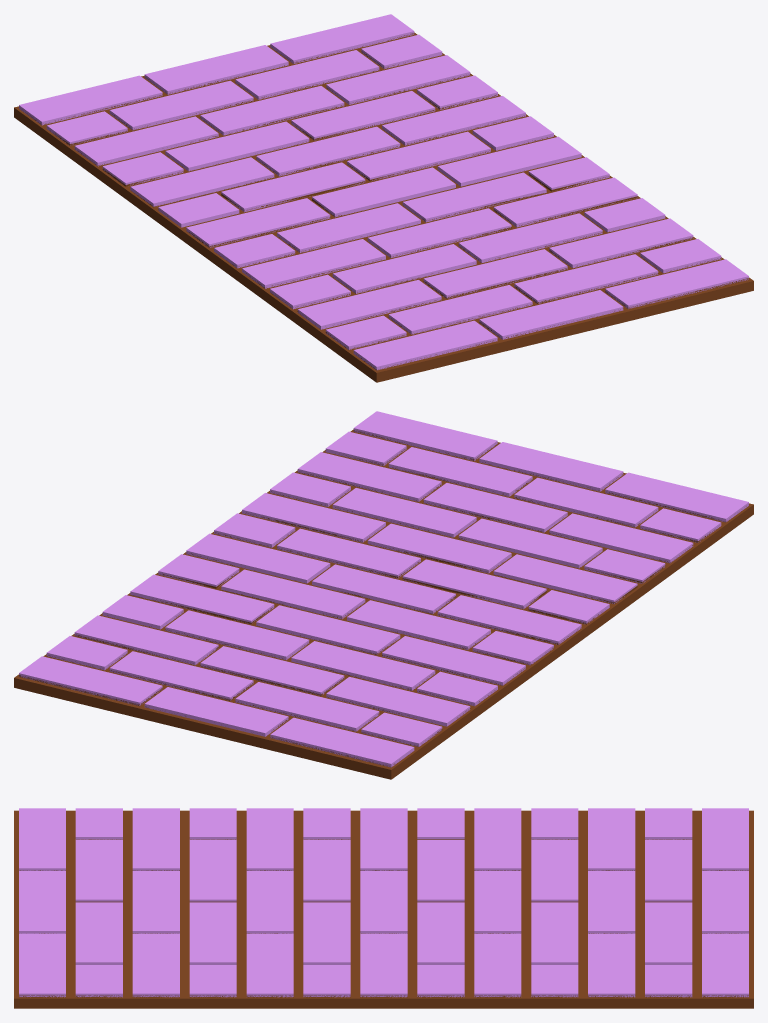
File: WOOD FLOORING.glb
3 renders of one model, top to bottom at view 1: azimuth 30°, elevation 25°; view 2: azimuth 150°, elevation 25°; view 3: azimuth 270°, elevation 25°, orthographic. The views are drawn at different scales.
Visible parts, largest first — view 1: WOOD FLOOR; view 2: WOOD FLOOR; view 3: WOOD FLOOR.
Part boxes in pixels (left/top/right/bottom): WOOD FLOOR: left=14, top=14, right=753, bottom=382; WOOD FLOOR: left=14, top=411, right=753, bottom=779; WOOD FLOOR: left=14, top=808, right=753, bottom=1008.
Size of the model in its own units: 8.43 by 0.2886 by 14.03.
